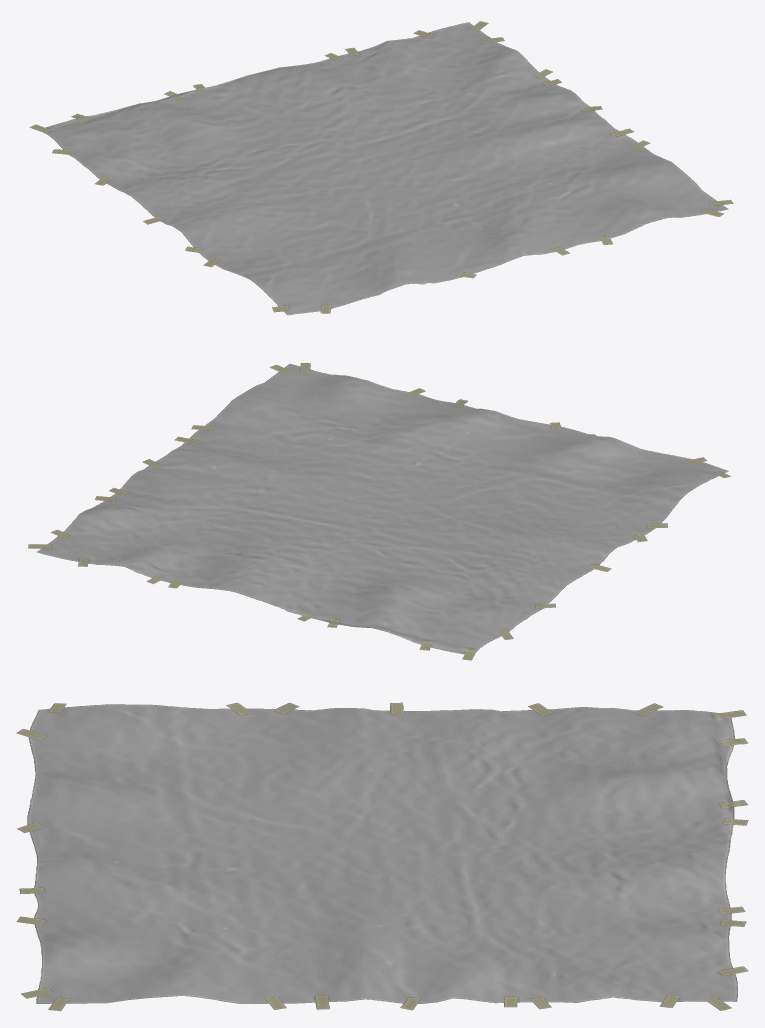
File: laboratory_floor_sheet.dae
3 views of the same model, one above another, from view 1: azimuth 30°, elevation 25°; view 2: azimuth 150°, elevation 25°; view 3: azimuth 270°, elevation 25° (orthographic). The views are drawn at different scales.
Parts seen in each view (by area): view 1: Mesh; view 2: Mesh; view 3: Mesh.
Boxes of the visible parts, left/top/right/bottom form: Mesh: left=29, top=21, right=733, bottom=315; Mesh: left=28, top=363, right=730, bottom=660; Mesh: left=16, top=702, right=748, bottom=1011.
Bounding box in the file's own units: 2 × 0.0347 × 2.
